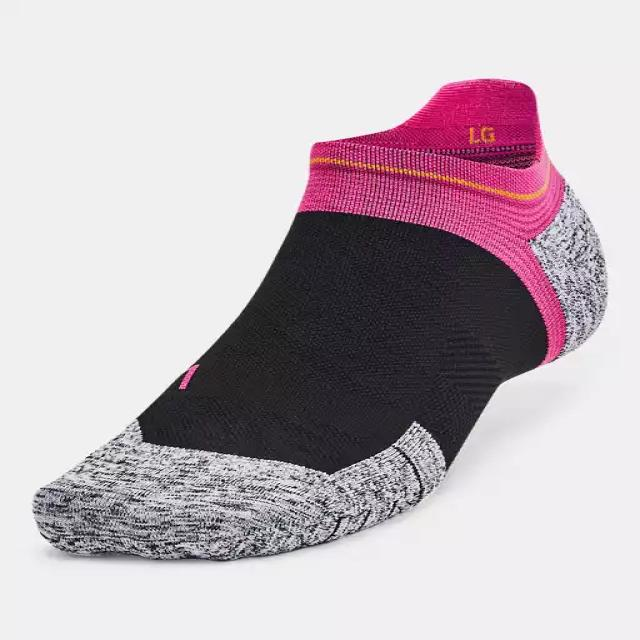sock: (31, 77, 608, 561)
